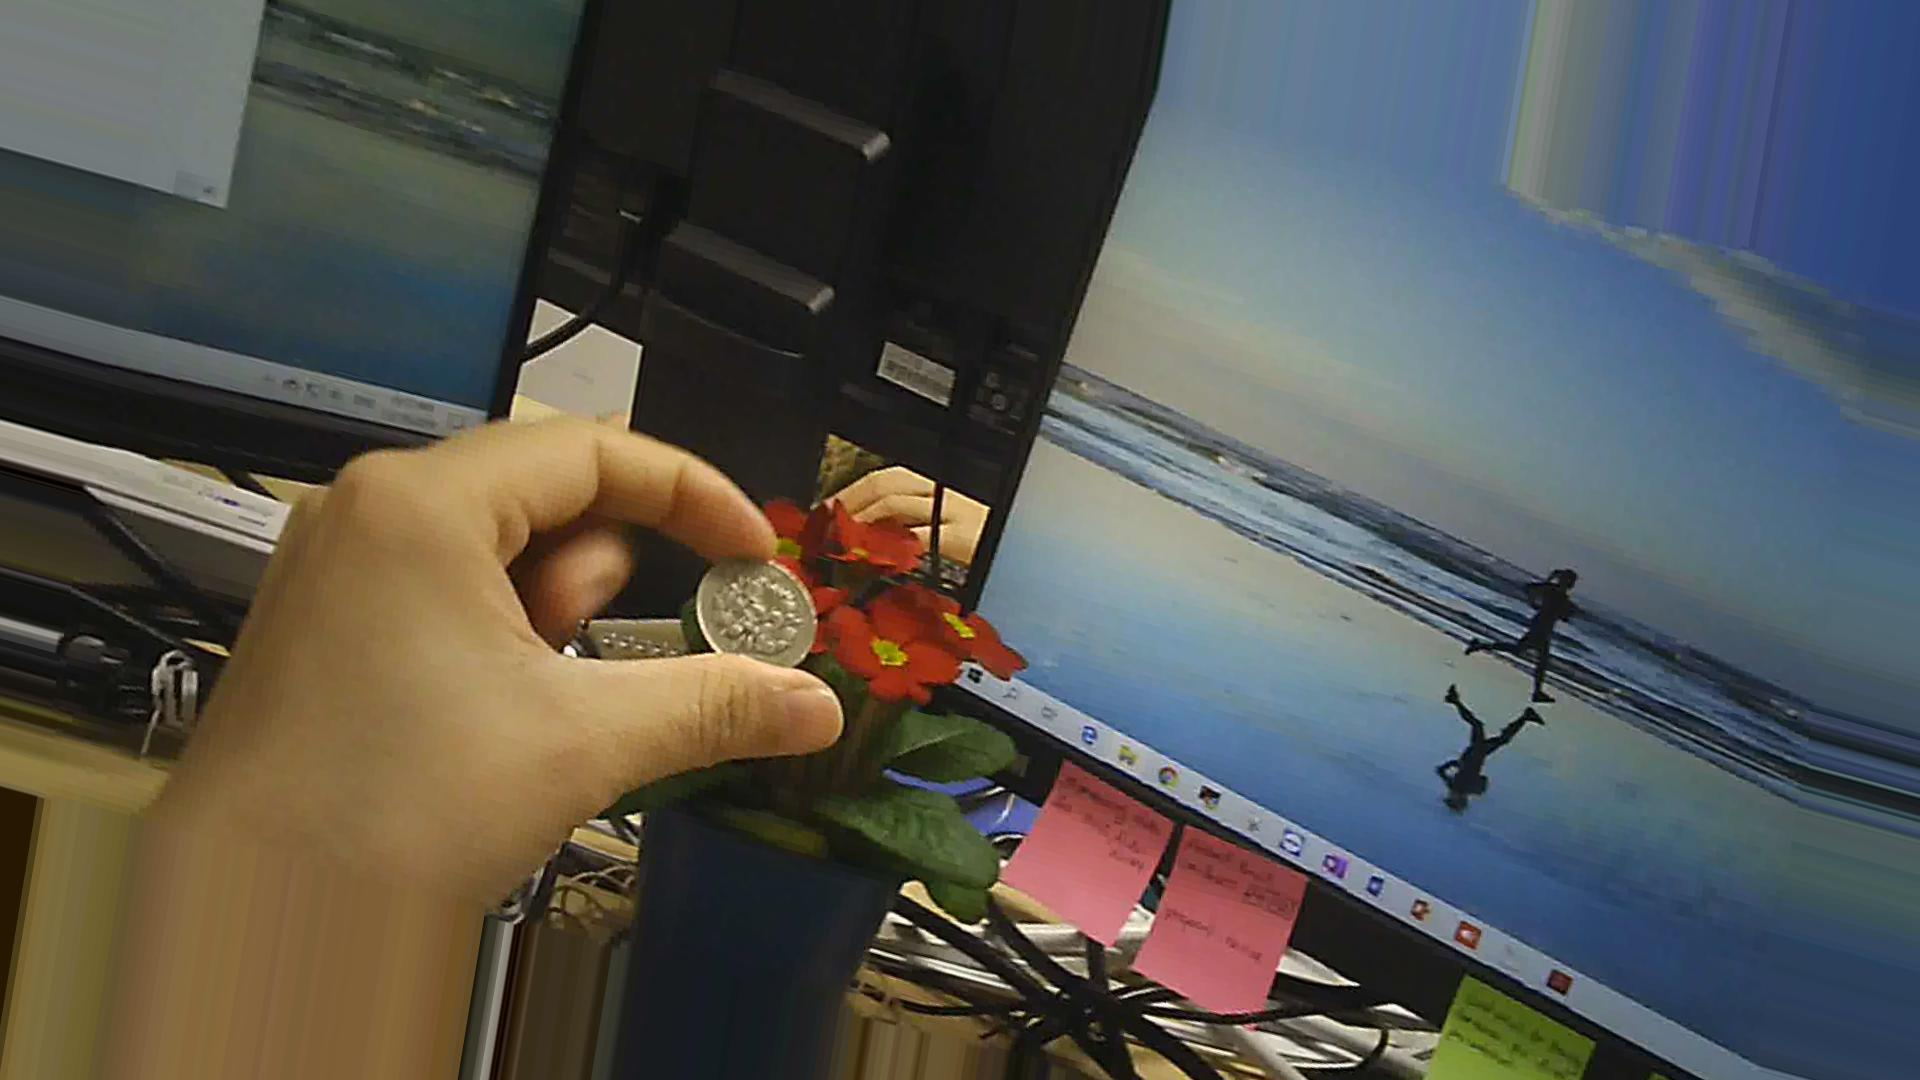100 Yen: (684, 549, 837, 687)
